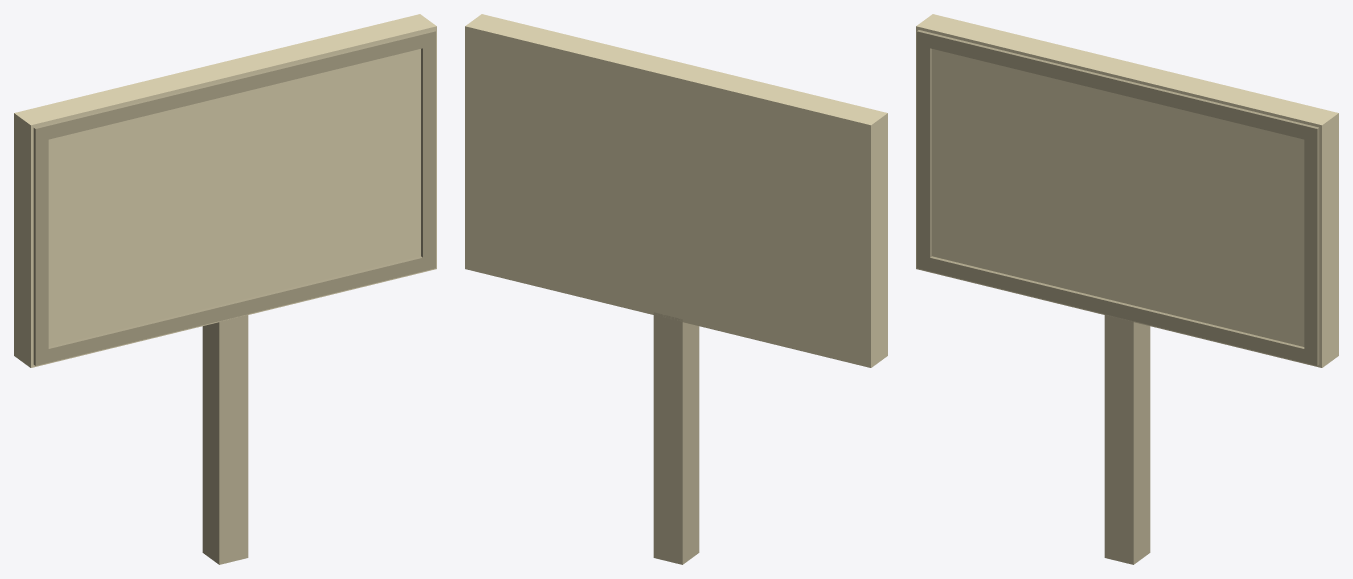
The model's file is sign_birch_stand.gltf.
3 views of the same model, side by side, from view 1: azimuth 30°, elevation 25°; view 2: azimuth 150°, elevation 25°; view 3: azimuth 330°, elevation 25° (orthographic).
Visible parts, largest first — view 1: sign_birch_stand; view 2: sign_birch_stand; view 3: sign_birch_stand.
Boxes of the visible parts, <box> form: sign_birch_stand: <box>14,14,436,564</box>; sign_birch_stand: <box>465,14,887,564</box>; sign_birch_stand: <box>916,14,1338,564</box>.
Size of the model in its own units: 0.875 by 1 by 0.07.
